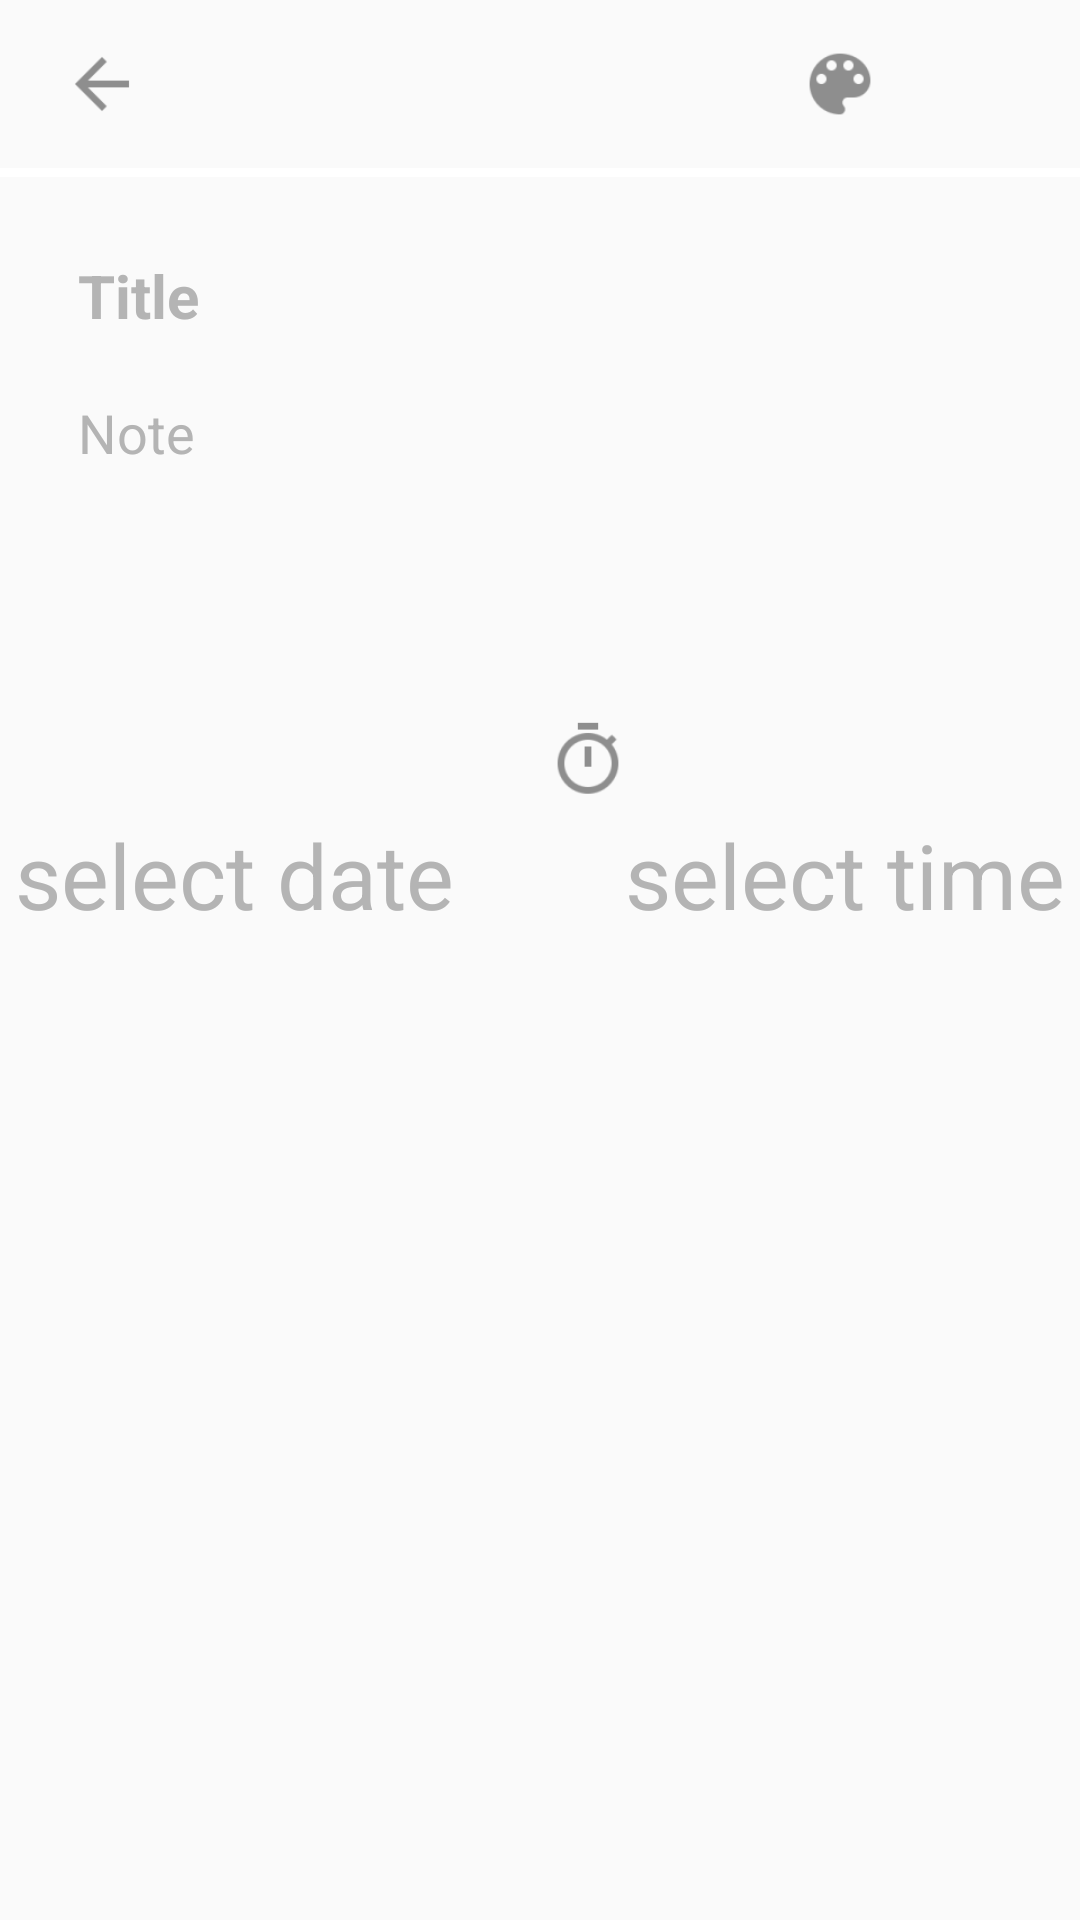

Screen size 1080x1920. Icon name, then its center in pixels as (x,y):
back: (102,84)
palette: (840,84)
timer: (588,758)
